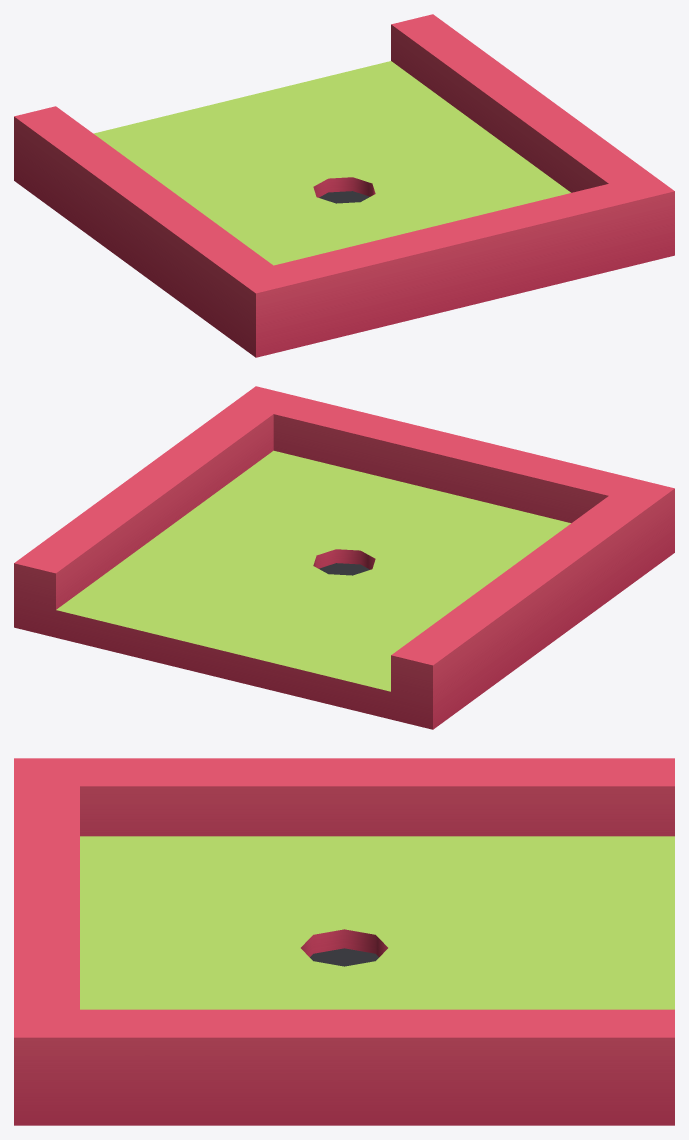
The model's file is hole-square.fbx.
3 views of the same model, one above another, from view 1: azimuth 30°, elevation 25°; view 2: azimuth 150°, elevation 25°; view 3: azimuth 270°, elevation 25° (orthographic). The views are drawn at different scales.
Visible parts, largest first — view 1: hole_square; view 2: hole_square; view 3: hole_square.
Boxes of the visible parts, left/top/right/bottom form: hole_square: left=14, top=14, right=674, bottom=357; hole_square: left=14, top=386, right=674, bottom=729; hole_square: left=14, top=758, right=674, bottom=1125.
Bounding box in the file's own units: 99.99 × 14.67 × 99.99.
Materials: 1 (1 with a texture image).
